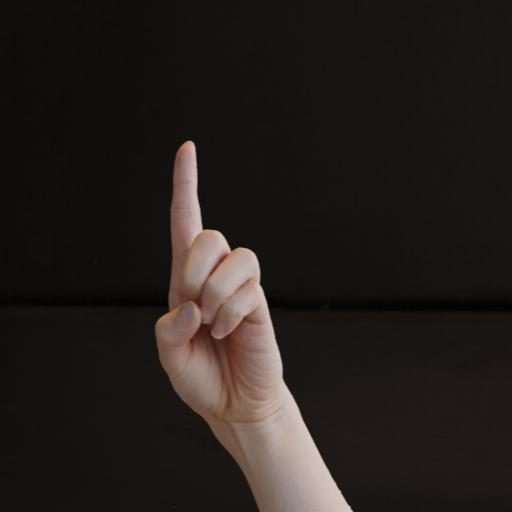D: (144, 130, 354, 512)
